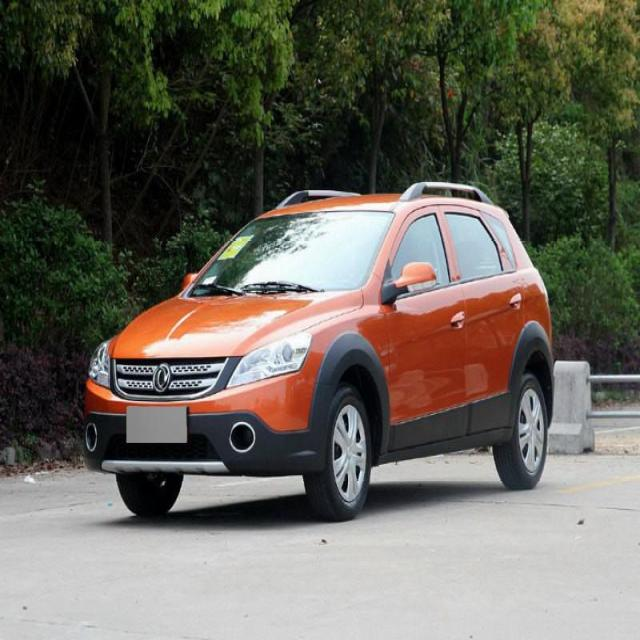door: (442, 206, 527, 424)
front_bumper: (79, 406, 319, 478)
front_glass: (182, 207, 396, 300)
front_left_side_door: (379, 201, 469, 460)
front_left_side_light: (225, 326, 315, 392)
front_left_side_mirror: (390, 259, 441, 300)
front_right_side_light: (85, 334, 115, 396)
wheel: (299, 384, 377, 519), (492, 371, 550, 489), (115, 473, 187, 518)
